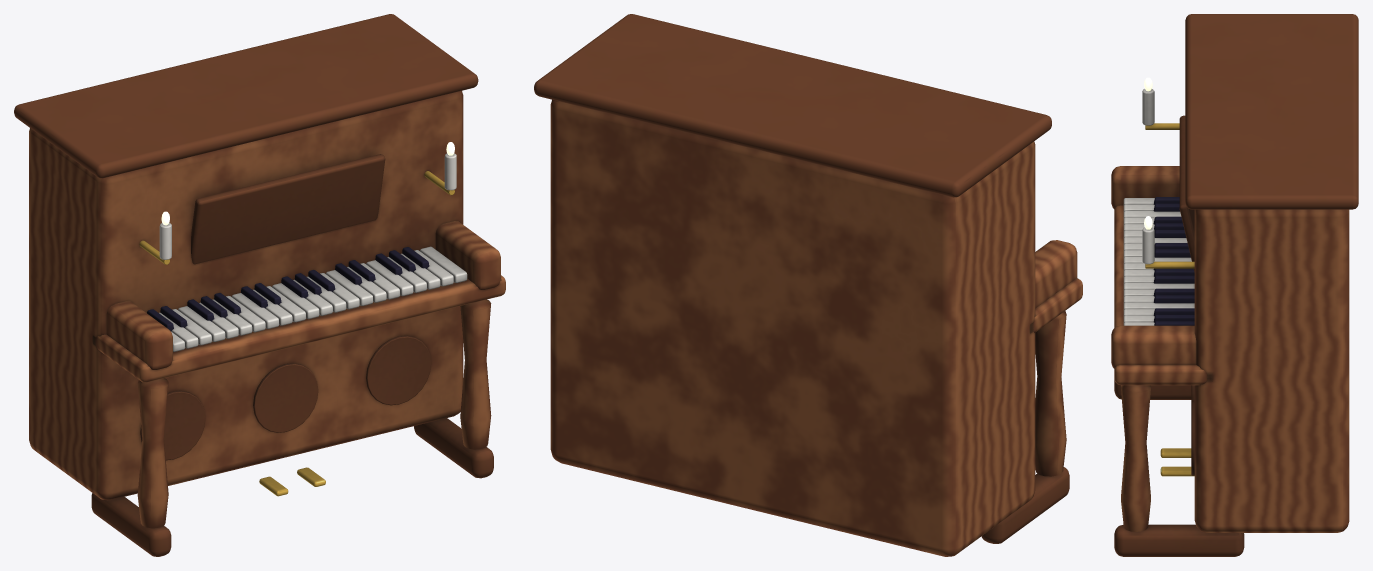
Rendered from UprightPiano.fbx.
3 renders of one model, left to right at view 1: azimuth 30°, elevation 25°; view 2: azimuth 150°, elevation 25°; view 3: azimuth 270°, elevation 25°, orthographic. The views are drawn at different scales.
Parts seen in each view (by area): view 1: UprightPiano_Body, Key_84_Mesh; view 2: UprightPiano_Body; view 3: UprightPiano_Body, Key_71_Mesh, Key_76_Mesh, Key_52_Mesh, Key_70_Mesh, Key_75_Mesh, Key_64_Mesh, Key_73_Mesh, Key_80_Mesh, Key_63_Mesh.
Boxes of the visible parts, box(x1,y1,x2,y2) form: UprightPiano_Body: box(14, 14, 505, 556); Key_84_Mesh: box(420, 246, 467, 282); UprightPiano_Body: box(534, 14, 1082, 556); UprightPiano_Body: box(1111, 14, 1358, 556); Key_71_Mesh: box(1123, 283, 1194, 290); Key_76_Mesh: box(1123, 302, 1194, 310); Key_52_Mesh: box(1123, 211, 1181, 218); Key_70_Mesh: box(1153, 275, 1194, 283); Key_75_Mesh: box(1153, 295, 1194, 303); Key_64_Mesh: box(1123, 256, 1191, 264); Key_73_Mesh: box(1153, 288, 1194, 296); Key_80_Mesh: box(1153, 314, 1194, 322); Key_63_Mesh: box(1154, 249, 1190, 257).
Bounding box in the file's own units: 1.42 × 1.33 × 0.8.
